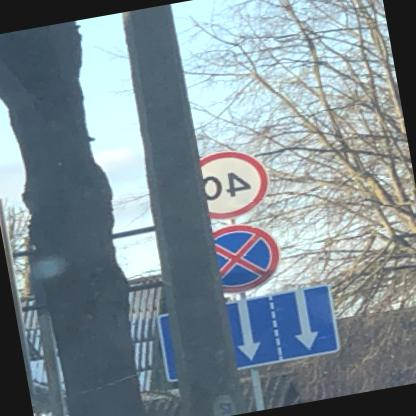speedlimit: (200, 143, 274, 219)
